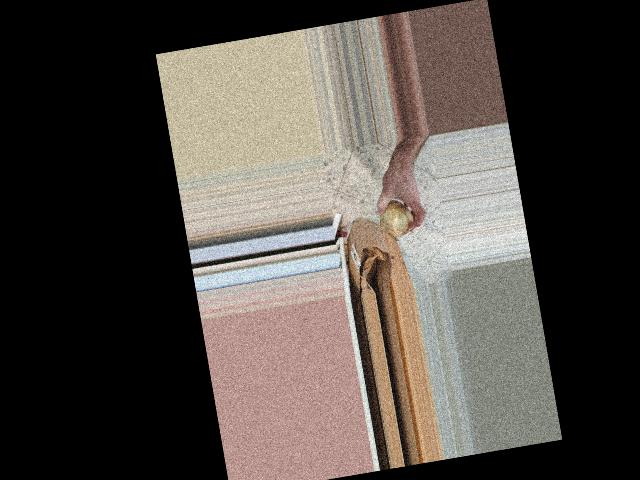onion: (374, 197, 418, 243)
